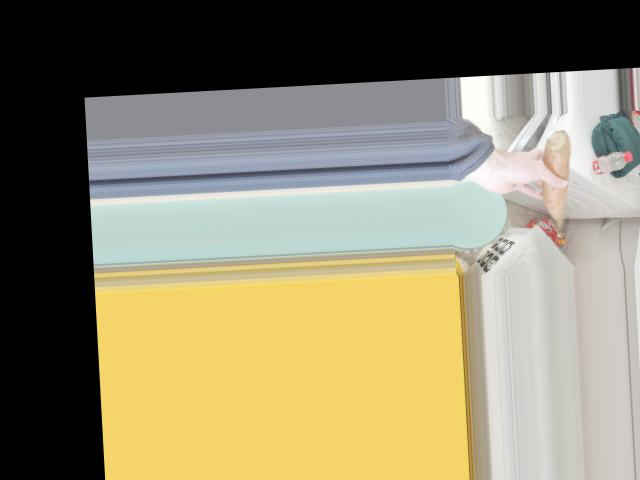sweet_potato: (540, 143, 566, 219)
